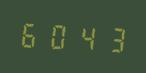four: (72, 20, 98, 54)
six: (18, 17, 44, 51)
three: (99, 21, 125, 55)
zero: (45, 18, 71, 52)
